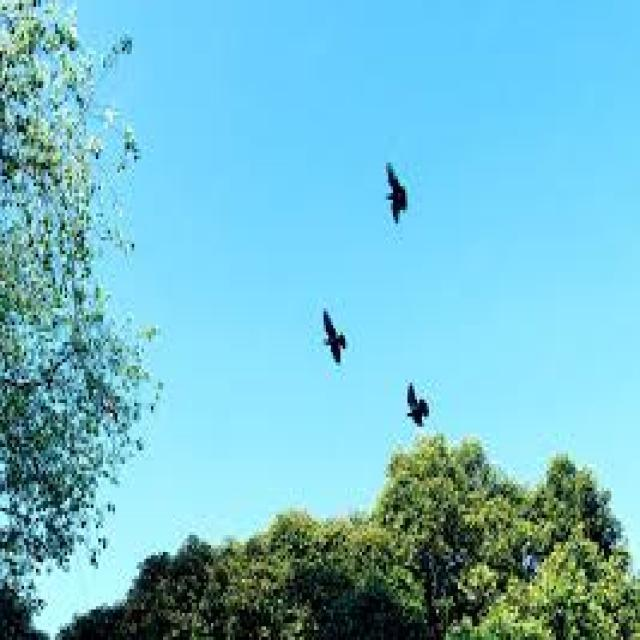bird: (377, 147, 423, 256), (310, 293, 356, 386), (387, 356, 435, 440)
